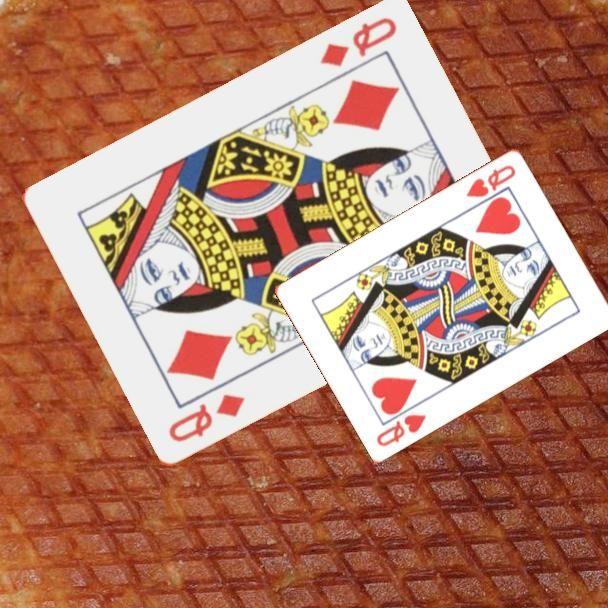d12: (316, 14, 400, 71), (164, 391, 248, 446)
h12: (462, 161, 519, 200), (373, 410, 429, 449)
